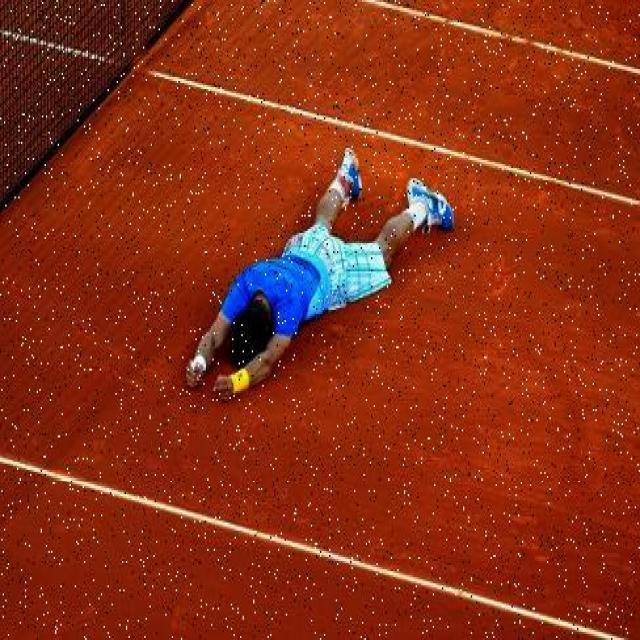fall: (185, 160, 433, 403)
